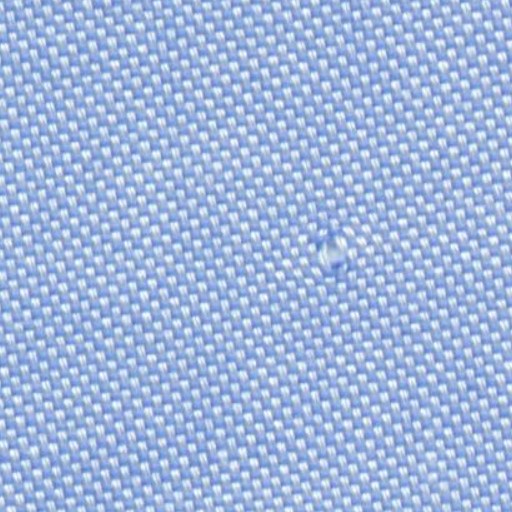PoDong: (296, 218, 374, 288)
